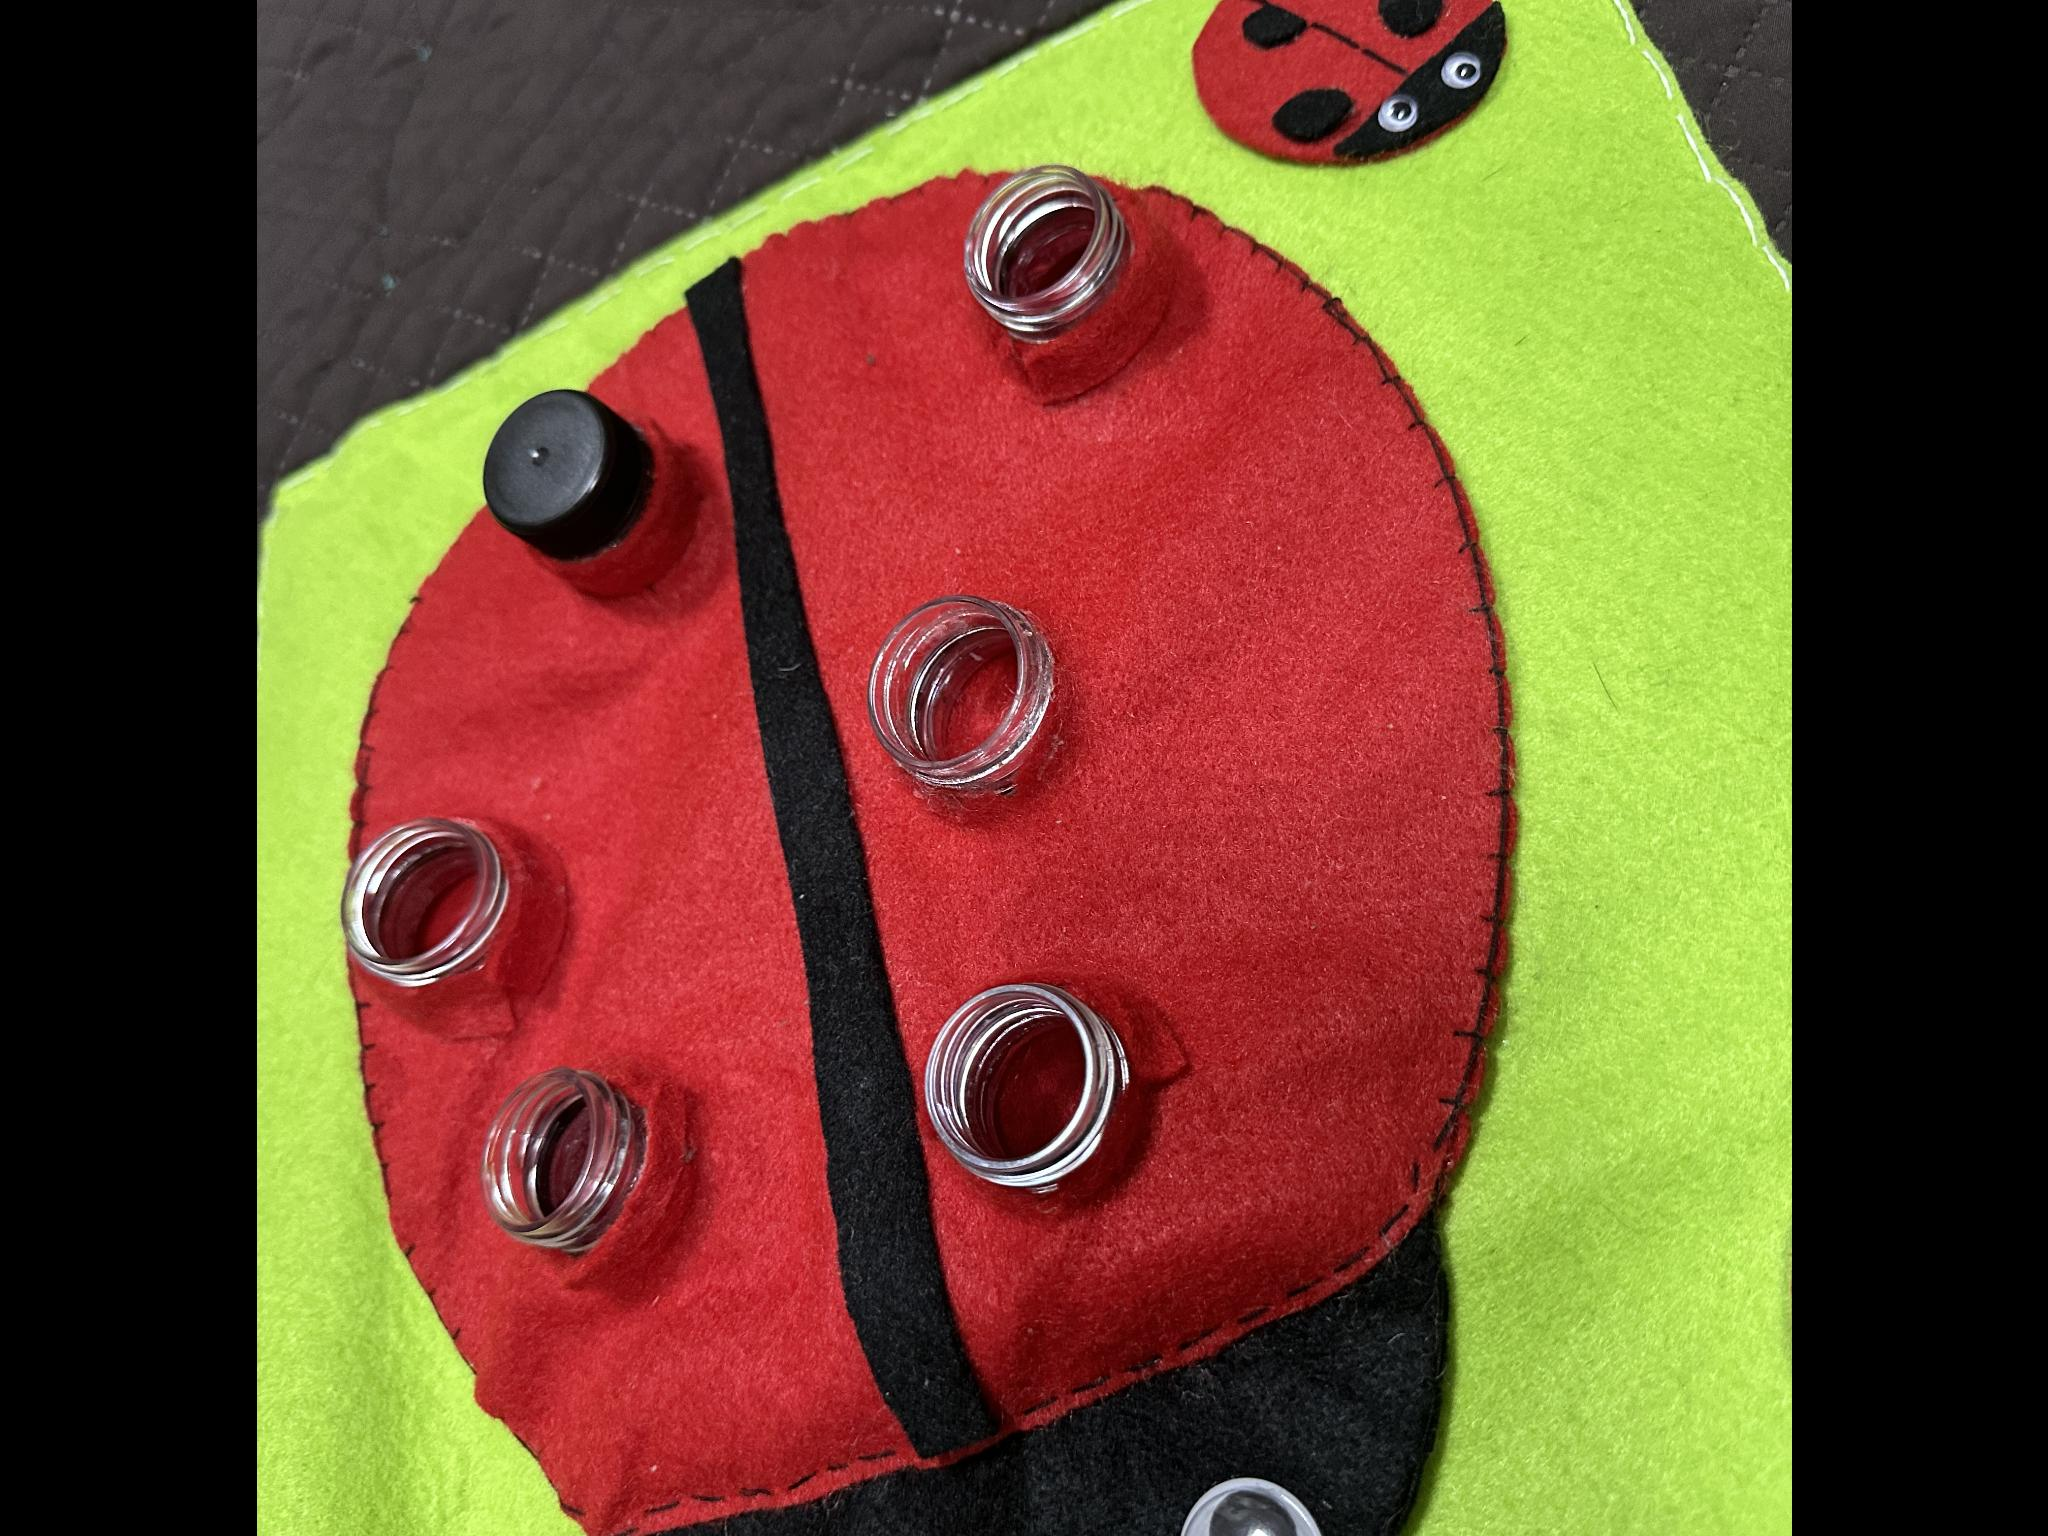cap_ok: (477, 379, 714, 632)
